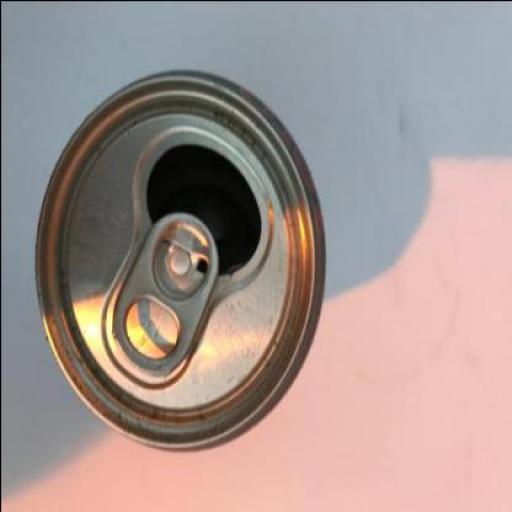metal: (34, 74, 325, 454)
